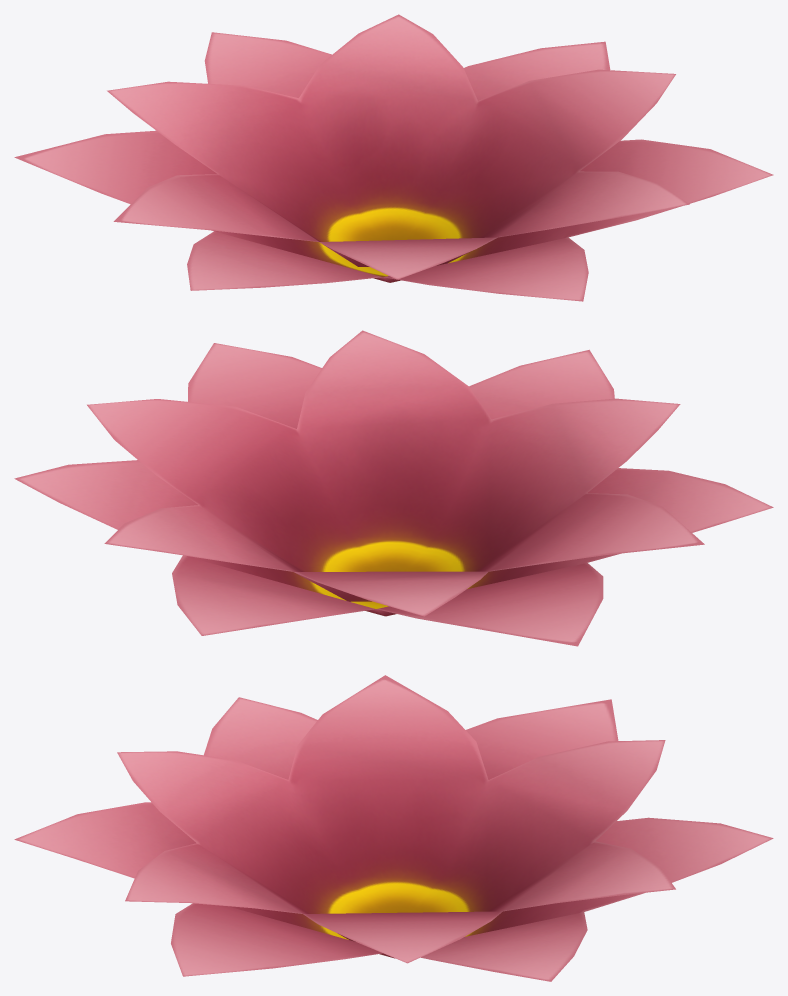
The model's file is SM_Lily_Flower.fbx.
3 views of the same model, one above another, from view 1: azimuth 30°, elevation 25°; view 2: azimuth 150°, elevation 25°; view 3: azimuth 270°, elevation 25° (orthographic). The views are drawn at different scales.
Visible parts, largest first — view 1: SM_Lily_Flower_LOD0; view 2: SM_Lily_Flower_LOD0; view 3: SM_Lily_Flower_LOD0.
Boxes of the visible parts, x1,y1,x2,y2 form: SM_Lily_Flower_LOD0: (14,14,773,301); SM_Lily_Flower_LOD0: (14,330,773,646); SM_Lily_Flower_LOD0: (14,675,773,981).
Size of the model in its own units: 31.21 by 34.75 by 5.47.
Materials: 1 (1 with a texture image).
